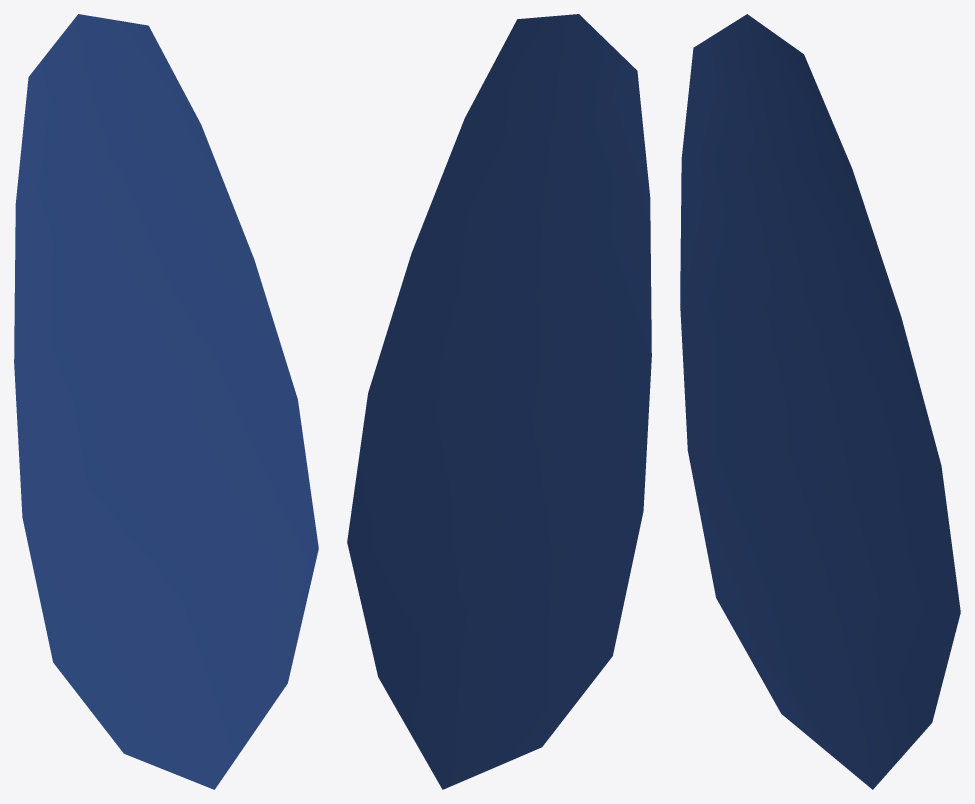
File: lovebird_feather_flight_secondary_024.obj
3 renders of one model, left to right at view 1: azimuth 30°, elevation 25°; view 2: azimuth 150°, elevation 25°; view 3: azimuth 330°, elevation 25°, orthographic. The views are drawn at different scales.
Visible parts, largest first — view 1: feather_flight_secondary_024; view 2: feather_flight_secondary_024; view 3: feather_flight_secondary_024.
Part boxes in pixels (x1,y1,x2,y2): feather_flight_secondary_024: (14, 14, 318, 789); feather_flight_secondary_024: (347, 14, 651, 789); feather_flight_secondary_024: (680, 14, 960, 789).
Bounding box in the file's own units: 0.00647 × 0.0164 × 0.00016.
